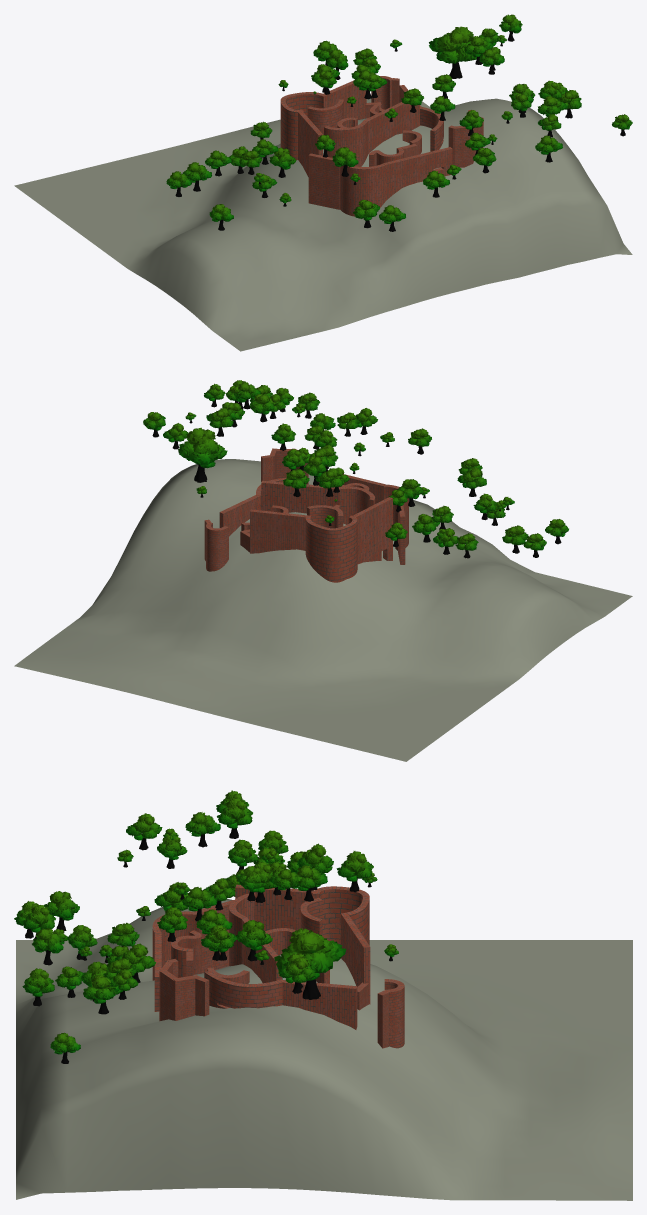
File: LilianeAmlinger.gltf
The picture shows the model from 3 angles, top to bottom: view 1: azimuth 30°, elevation 25°; view 2: azimuth 150°, elevation 25°; view 3: azimuth 270°, elevation 25°; orthographic projection. The views are drawn at different scales.
Visible parts, largest first — view 1: New Terrain 3, haus (×2), tree_1_LOD0; view 2: New Terrain 3, haus (×2), tree_1_LOD0; view 3: New Terrain 3, haus (×2), tree_1_LOD0 (×19).
Boxes of the visible parts, x1,y1,x2,y2 form: New Terrain 3: [14, 98, 632, 351]; haus (×2): [280, 76, 483, 216]; tree_1_LOD0: [429, 26, 476, 78]; New Terrain 3: [14, 459, 632, 761]; haus (×2): [204, 448, 408, 582]; tree_1_LOD0: [178, 427, 227, 482]; New Terrain 3: [16, 899, 632, 1200]; haus (×2): [152, 884, 404, 1048]; tree_1_LOD0 (×19): [22, 797, 373, 1014].
Size of what is drawn, in the model's own units: 0.8323 by 0.3352 by 0.8024.
4 materials, 2 textured.
